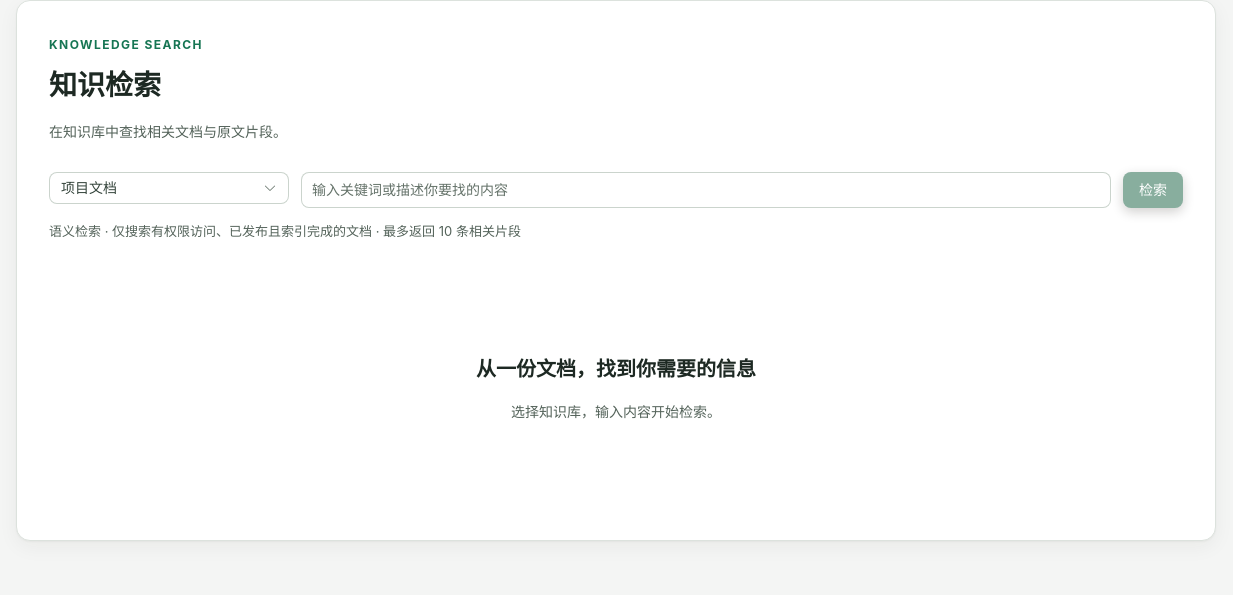
Scenario: 知识检索 › explains scope limits instead of pretending there are no matches
The image size is (1233, 595).
Type "部署" into the field named "检索内容" at x=706, y=190, box [312,175,1100,205]
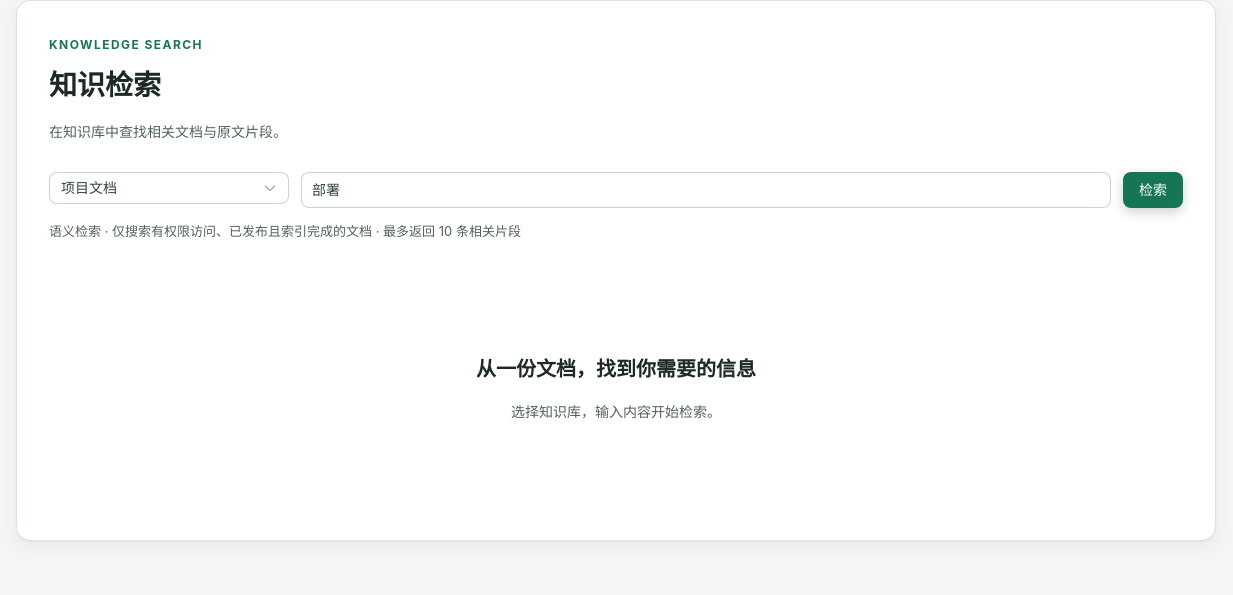
Submit the form, box [49,172,1183,208]
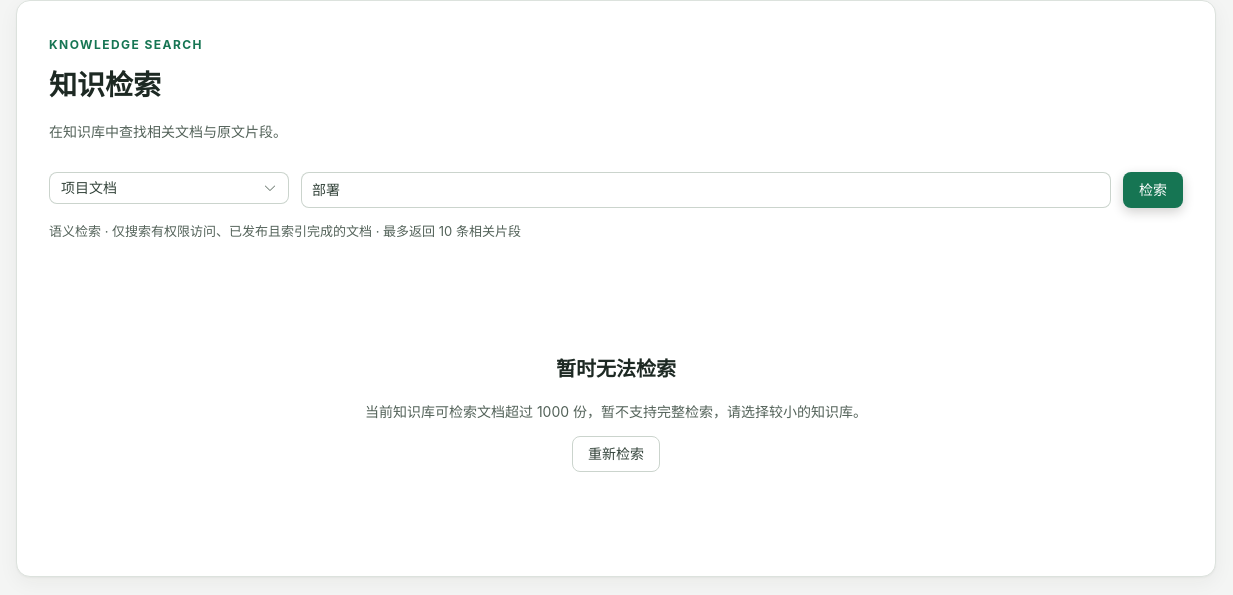
Now the text "超过 1000 份" is shown, box [365,403,867,420]
